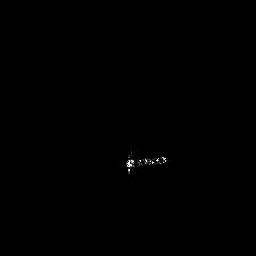ship: (124, 150, 169, 175)
